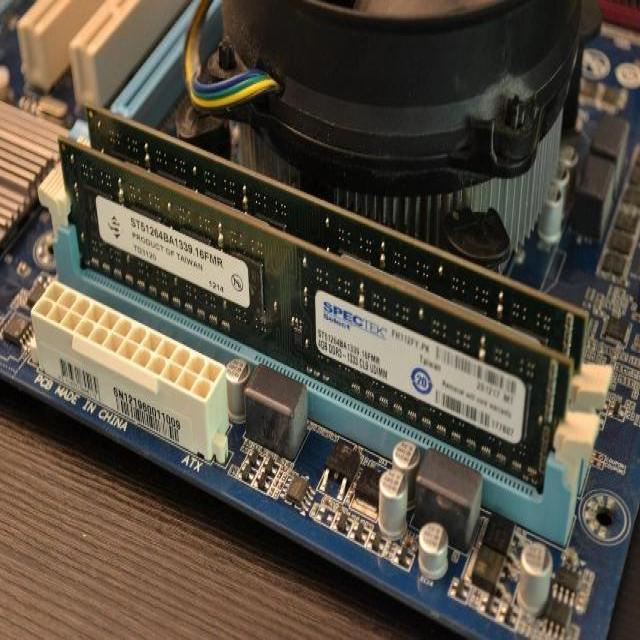RAM: (51, 133, 576, 496)
